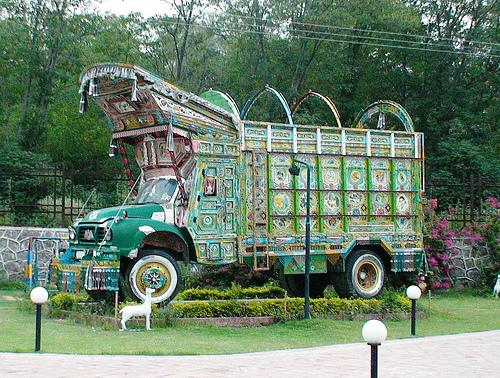truck: (46, 60, 428, 308)
